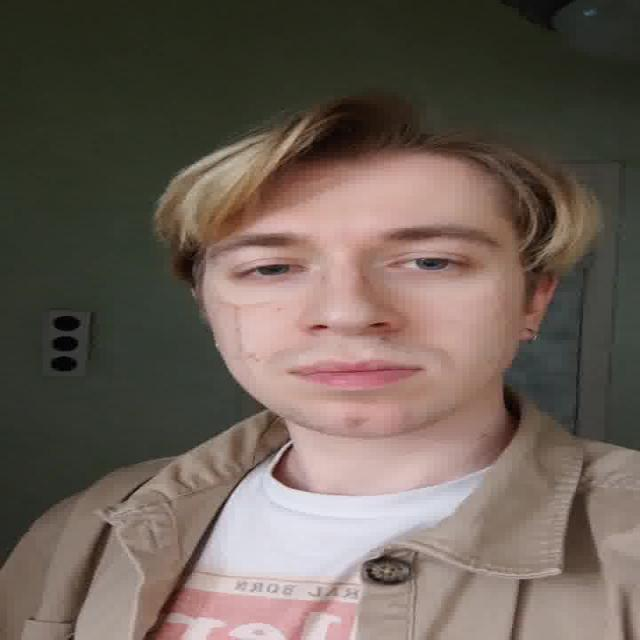earlobe: (516, 310, 546, 341)
eye: (389, 254, 469, 274), (237, 261, 306, 277)
nose: (298, 328, 402, 358)
wholeear: (516, 269, 559, 341)
